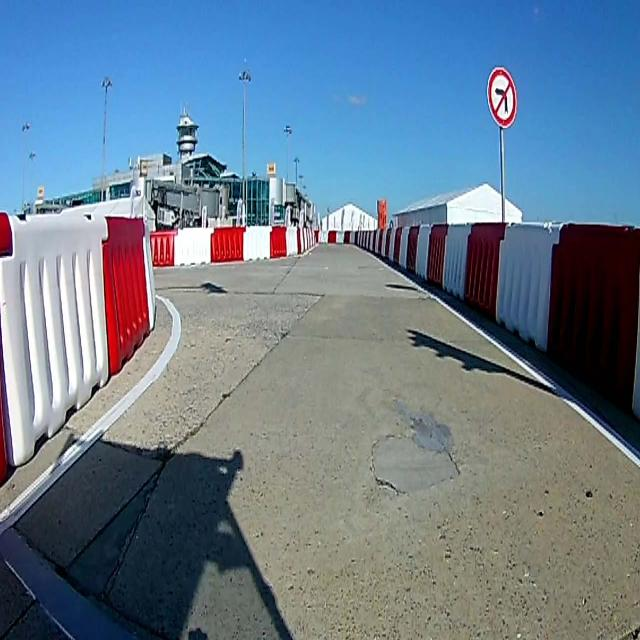soladonulmez: (487, 67, 518, 128)
